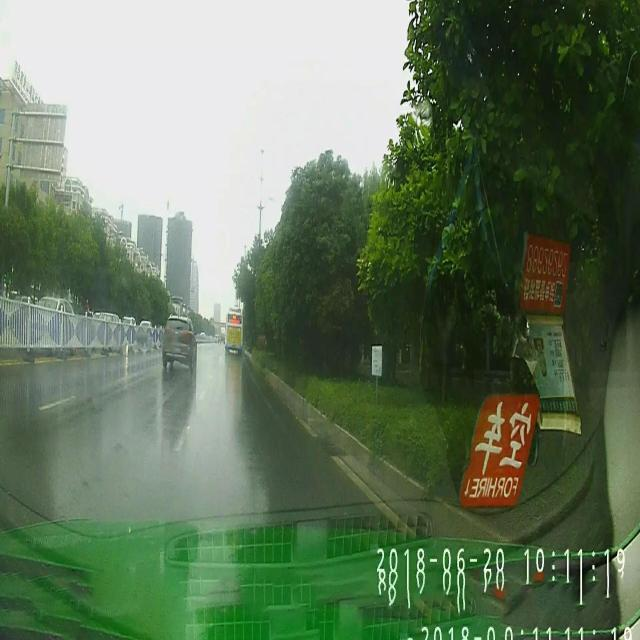car: (26, 293, 74, 342), (162, 311, 196, 374), (88, 310, 121, 346)
